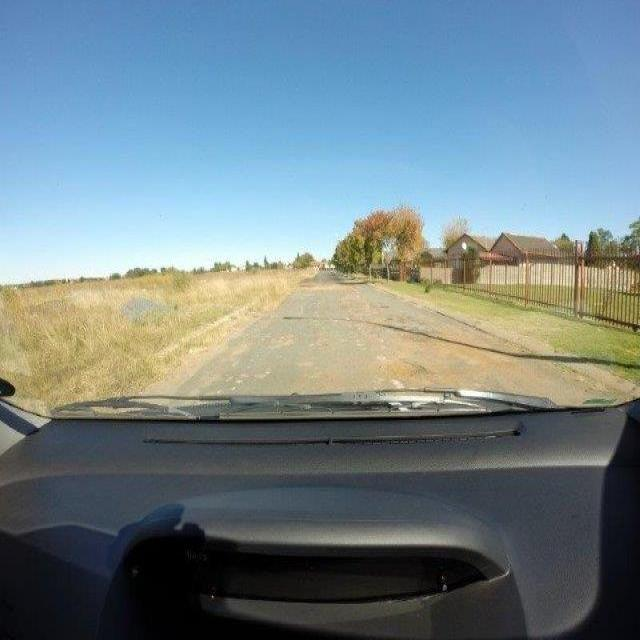lubang: (373, 352, 421, 384)
